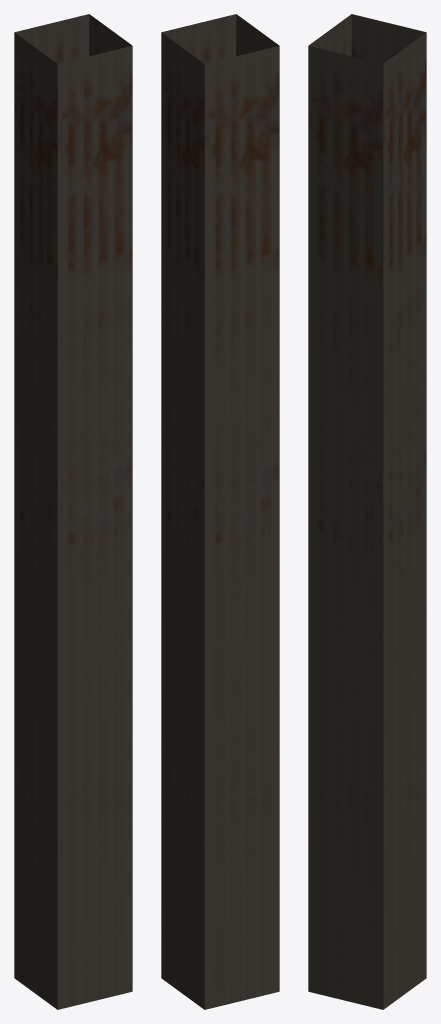
Rendered from metal_column_small_center.glb.
The picture shows the model from 3 angles, left to right: view 1: azimuth 30°, elevation 25°; view 2: azimuth 210°, elevation 25°; view 3: azimuth 330°, elevation 25°; orthographic projection.
Visible parts, largest first — view 1: Metal_Column_Small_Center; view 2: Metal_Column_Small_Center; view 3: Metal_Column_Small_Center.
Part boxes in pixels (box(x1,y1,x2,y2)): Metal_Column_Small_Center: box(14, 14, 132, 1009); Metal_Column_Small_Center: box(161, 14, 279, 1009); Metal_Column_Small_Center: box(308, 14, 426, 1009).
Size of the model in its own units: 0.2489 by 3 by 0.2491.
1 material, 1 textured.
